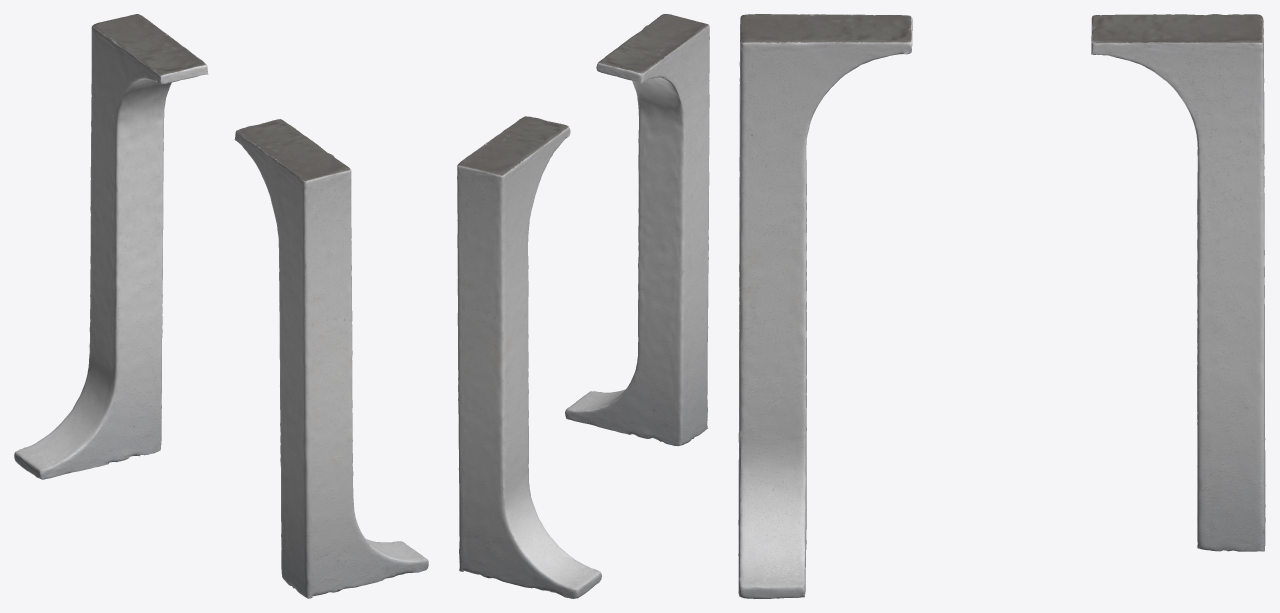
The model's file is KuengCaputo_Saeulen_2100.glb.
The picture shows the model from 3 angles, left to right: view 1: azimuth 30°, elevation 25°; view 2: azimuth 150°, elevation 25°; view 3: azimuth 270°, elevation 25°; orthographic projection. The views are drawn at different scales.
Parts seen in each view (by area): view 1: Retopo_saeule1.002; view 2: Retopo_saeule1.002; view 3: Retopo_saeule1.002.
Part boxes in pixels (x1,y1,x2,y2): Retopo_saeule1.002: (14,14,428,598); Retopo_saeule1.002: (457,14,709,598); Retopo_saeule1.002: (738,14,1265,598).
Size of the model in its own units: 1.16 by 2.3 by 2.15.
Materials: 1 (1 with a texture image).
